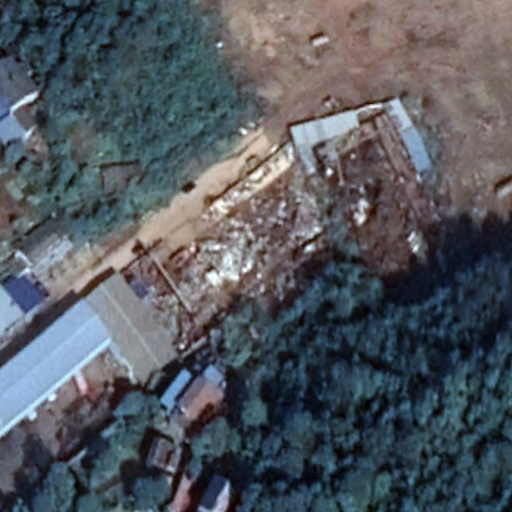msw: (163, 165, 327, 316)
